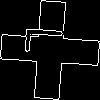L: (25, 25, 72, 56)
